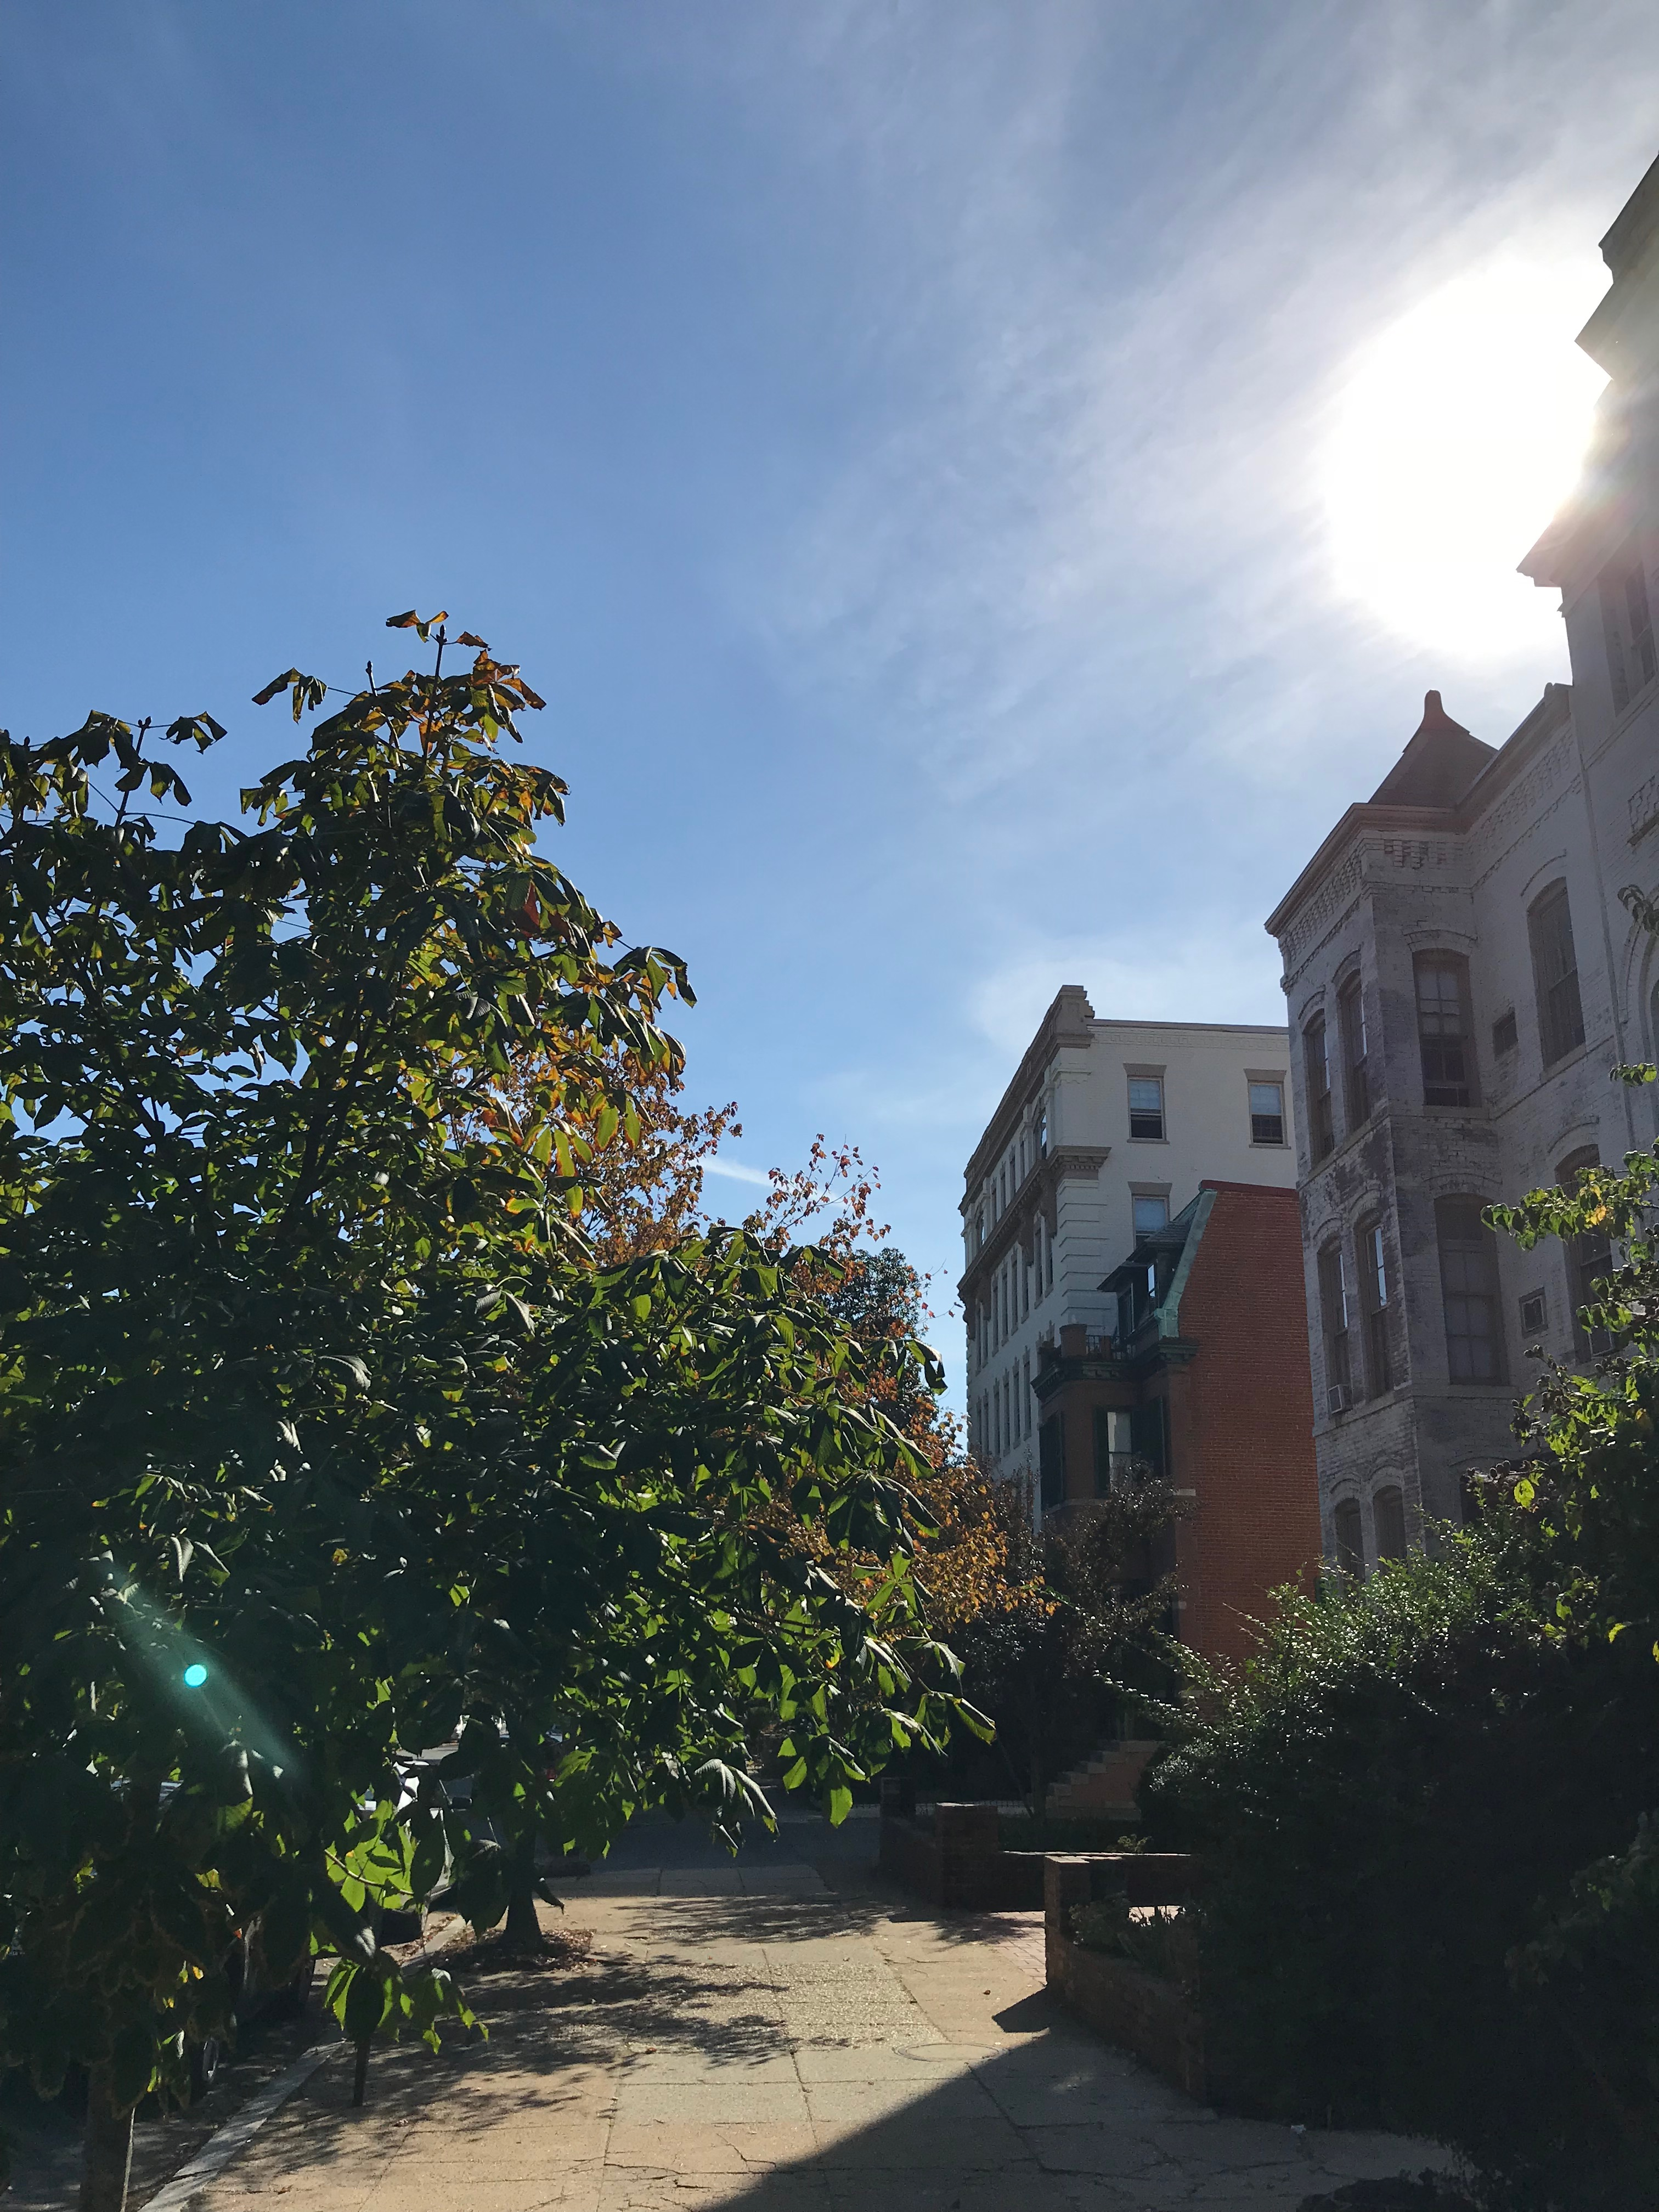flare: (181, 1662, 211, 1689)
